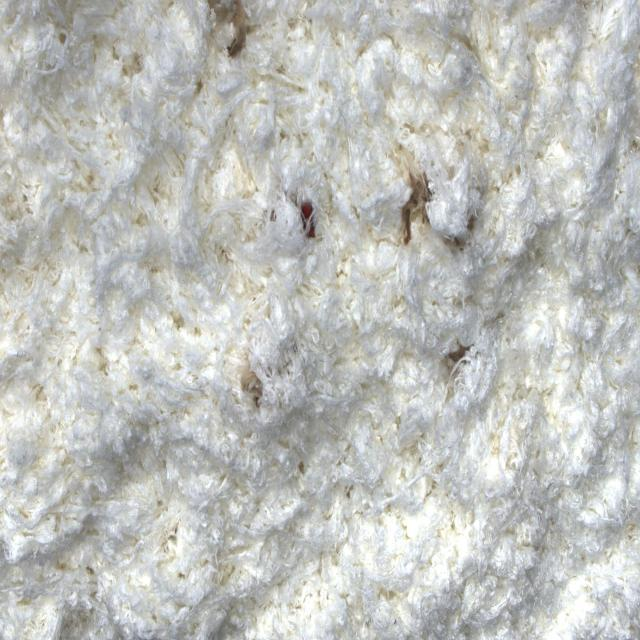dust: (393, 163, 441, 247), (203, 0, 263, 67), (292, 178, 329, 266)
